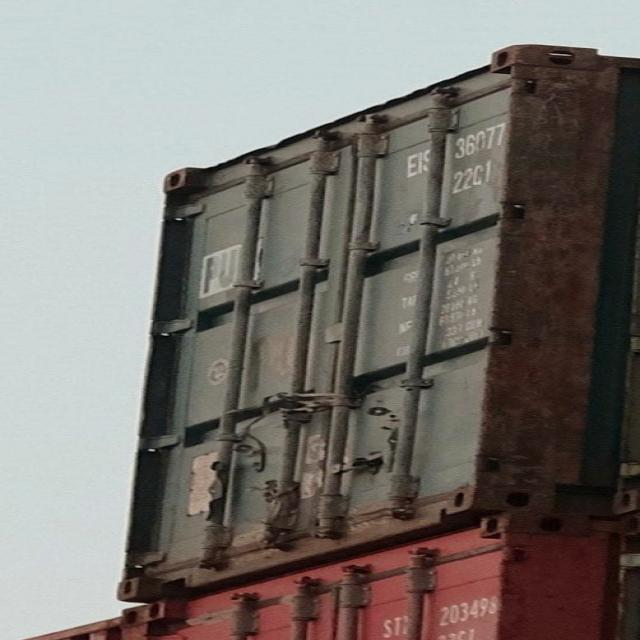ISO: (438, 157, 498, 195)
container_number: (401, 119, 504, 174)
